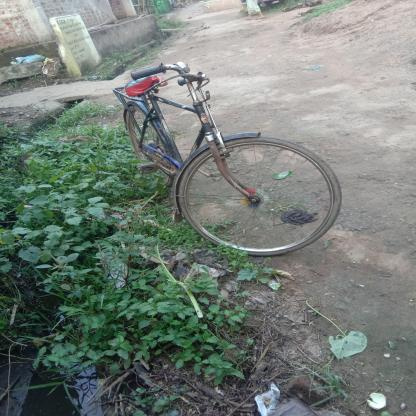bike: (82, 54, 360, 274)
